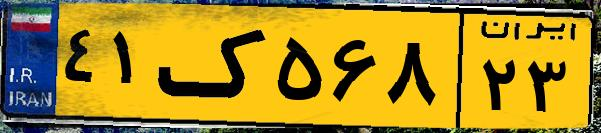1: (110, 28, 158, 98)
2: (475, 38, 525, 113)
3: (525, 38, 570, 115)
4: (57, 26, 110, 100)
5: (270, 28, 330, 110)
6: (330, 28, 385, 110)
8: (385, 28, 445, 110)
ک: (158, 12, 270, 120)
